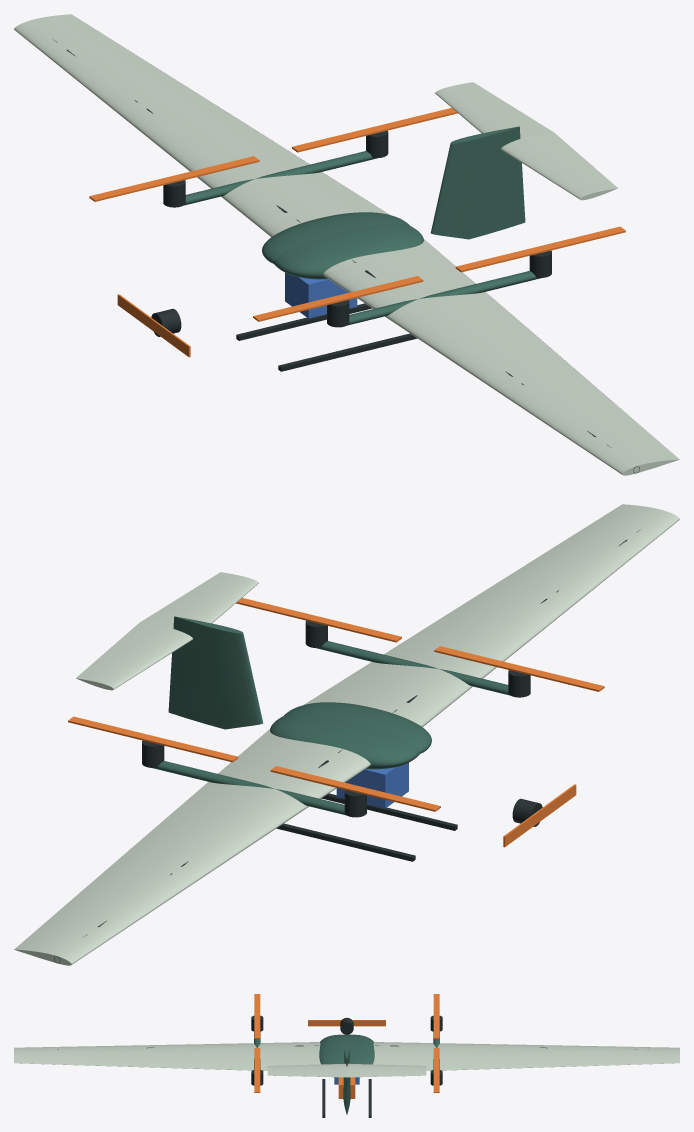
Rendered from control-10-internal.glb.
The picture shows the model from 3 angles, top to bottom: view 1: azimuth 30°, elevation 25°; view 2: azimuth 150°, elevation 25°; view 3: azimuth 270°, elevation 25°; orthographic projection. The views are drawn at different scales.
Visible parts, largest first — view 1: wing-1, wing1, fin, root_fairing-1, tail-1, tail1, root_fairing1, payload, boom_fairing-1, boom_fairing1, prop_1_200.0, prop_-1_200.0 (+5 smaller); view 2: wing1, wing-1, fin, root_fairing1, tail1, tail-1, root_fairing-1, payload, boom_fairing1, boom_fairing-1, prop_-1_200.0, prop_1_200.0 (+5 smaller); view 3: wing-1, wing1, tail-1, tail1, root_fairing-1, root_fairing1, cruise_prop, fin, prop_-1_200.0, prop_-1_700.0, prop_1_200.0, prop_1_700.0 (+1 smaller).
Boxes of the visible parts, bbox=[...] form: wing-1: bbox=[323, 239, 679, 475]; wing1: bbox=[14, 14, 389, 236]; fin: bbox=[431, 126, 525, 239]; root_fairing-1: bbox=[273, 223, 423, 279]; tail-1: bbox=[501, 132, 617, 200]; tail1: bbox=[435, 82, 553, 138]; root_fairing1: bbox=[262, 212, 409, 263]; payload: bbox=[285, 272, 357, 318]; boom_fairing-1: bbox=[347, 271, 541, 325]; boom_fairing1: bbox=[184, 151, 377, 205]; prop_1_200.0: bbox=[89, 156, 259, 201]; prop_-1_200.0: bbox=[253, 276, 423, 321]; wing1: bbox=[14, 729, 370, 965]; wing-1: bbox=[304, 504, 679, 726]; fin: bbox=[168, 616, 262, 729]; root_fairing1: bbox=[270, 713, 420, 769]; tail1: bbox=[76, 622, 192, 690]; tail-1: bbox=[140, 572, 258, 628]; root_fairing-1: bbox=[284, 702, 431, 753]; payload: bbox=[336, 762, 408, 808]; boom_fairing1: bbox=[152, 761, 346, 815]; boom_fairing-1: bbox=[316, 641, 509, 695]; prop_-1_200.0: bbox=[434, 646, 604, 691]; prop_1_200.0: bbox=[270, 766, 440, 811]; wing-1: bbox=[14, 1042, 320, 1070]; wing1: bbox=[373, 1042, 679, 1070]; tail-1: bbox=[267, 1063, 346, 1077]; tail1: bbox=[347, 1063, 426, 1077]; root_fairing-1: bbox=[319, 1034, 346, 1064]; root_fairing1: bbox=[347, 1034, 374, 1064]; cruise_prop: bbox=[308, 1020, 385, 1026]; fin: bbox=[343, 1042, 350, 1114]; prop_-1_200.0: bbox=[254, 994, 260, 1038]; prop_-1_700.0: bbox=[254, 1048, 260, 1092]; prop_1_200.0: bbox=[433, 994, 439, 1038]; prop_1_700.0: bbox=[433, 1048, 439, 1092].
Bounding box in the file's own units: 989 × 390 × 2600.
